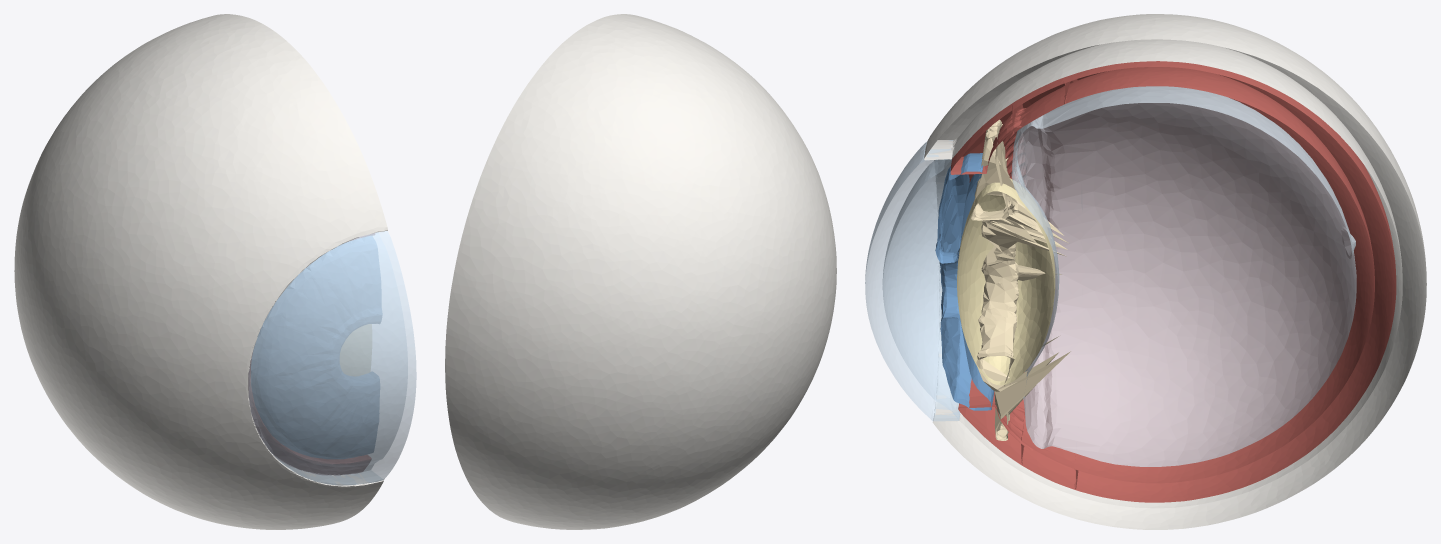
Rendered from occhio_interno.glb.
3 renders of one model, left to right at view 1: azimuth 30°, elevation 25°; view 2: azimuth 150°, elevation 25°; view 3: azimuth 270°, elevation 25°, orthographic. The views are drawn at different scales.
Parts seen in each view (by area): view 1: right sclera, right cornea, right iris, right choroid, right lens; view 2: right sclera; view 3: right choroid, right vitreous body, right sclera, right cornea, suspensory ligament of right lens, right lens, right iris.
Part boxes in pixels (left/top/right/bottom): right sclera: left=14, top=14, right=387, bottom=529; right cornea: left=248, top=231, right=416, bottom=485; right iris: left=251, top=236, right=381, bottom=458; right choroid: left=249, top=233, right=374, bottom=474; right lens: left=340, top=324, right=371, bottom=375; right sclera: left=445, top=14, right=836, bottom=529; right choroid: left=950, top=61, right=1396, bottom=502; right vitreous body: left=1011, top=86, right=1356, bottom=466; right sclera: left=924, top=14, right=1426, bottom=529; right cornea: left=865, top=140, right=960, bottom=421; suspensory ligament of right lens: left=971, top=119, right=1070, bottom=440; right lens: left=957, top=178, right=1055, bottom=385; right iris: left=935, top=153, right=994, bottom=410.
Bounding box in the file's own units: 13.16 × 26.23 × 27.22.
